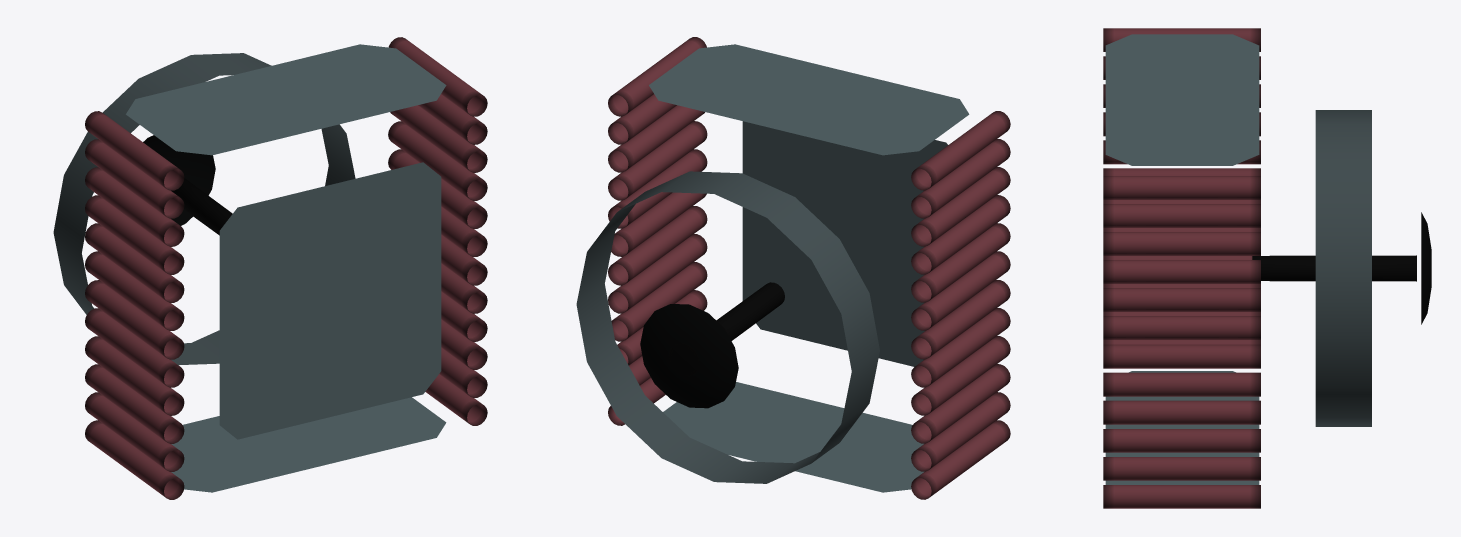
The model's file is fant_laserpointer_off.obj.
The picture shows the model from 3 angles, left to right: view 1: azimuth 30°, elevation 25°; view 2: azimuth 150°, elevation 25°; view 3: azimuth 270°, elevation 25°; orthographic projection.
Visible parts, largest first — view 1: fant_laserpointer_off_Cube.002; view 2: fant_laserpointer_off_Cube.002; view 3: fant_laserpointer_off_Cube.002.
Boxes of the visible parts, x1,y1,x2,y2 form: fant_laserpointer_off_Cube.002: [53, 37, 487, 499]; fant_laserpointer_off_Cube.002: [576, 37, 1010, 499]; fant_laserpointer_off_Cube.002: [1103, 28, 1431, 508].
Bounding box in the file's own units: 1 × 1 × 0.9745.
